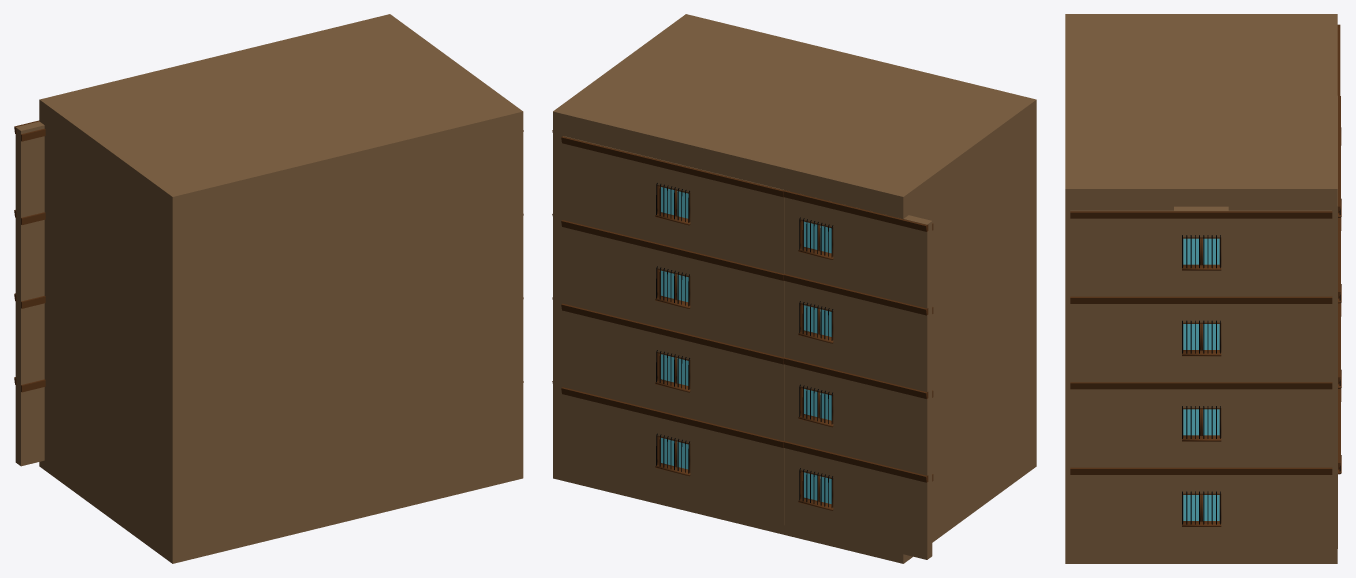
Rendered from BuildingSideOnly.fbx.
The picture shows the model from 3 angles, left to right: view 1: azimuth 30°, elevation 25°; view 2: azimuth 150°, elevation 25°; view 3: azimuth 270°, elevation 25°; orthographic projection. The views are drawn at different scales.
Parts seen in each view (by area): view 1: BuildingSideOnly; view 2: BuildingSideOnly; view 3: BuildingSideOnly.
Boxes of the visible parts, <box> form: BuildingSideOnly: <box>14,14,523,563</box>; BuildingSideOnly: <box>552,14,1036,563</box>; BuildingSideOnly: <box>1065,14,1341,563</box>.
Bounding box in the file's own units: 39.02 × 36.16 × 24.16.
